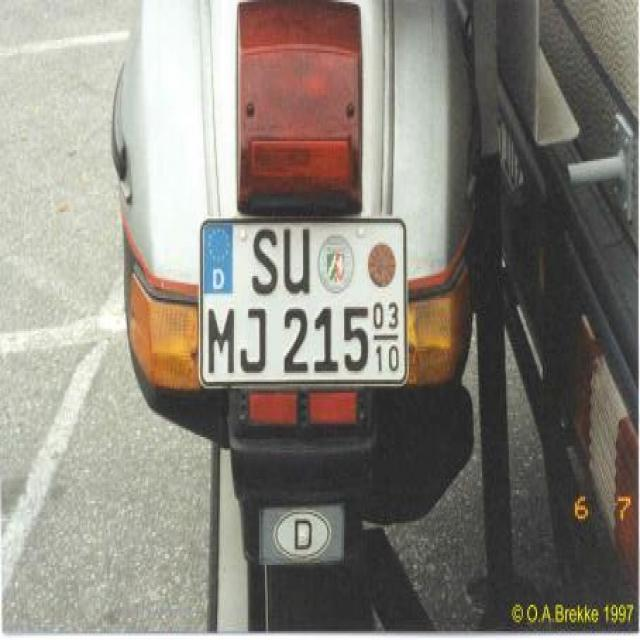License_Plate: (195, 215, 408, 382)
